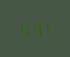five: (18, 21, 28, 37)
nine: (30, 20, 40, 36)
one: (41, 19, 51, 35)
